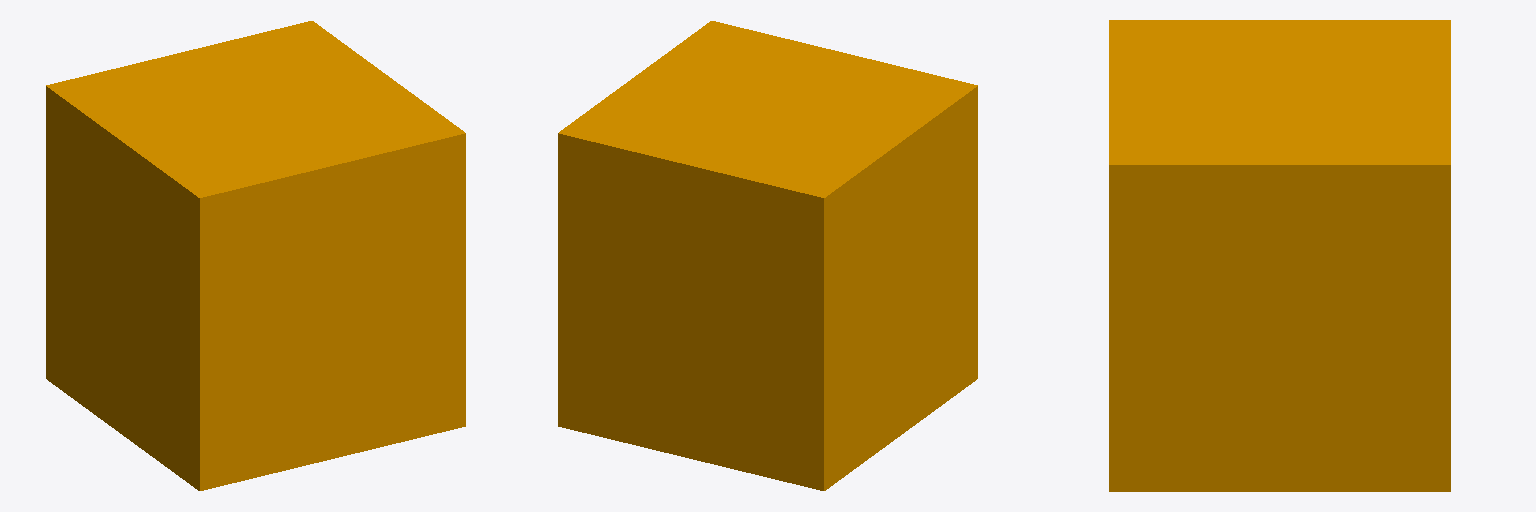
URDF robot description (test_bot):
<?xml version="1.0" ?>
<robot name="test_bot">
  <link name="table">
    <visual>
      <geometry>
        <box size="1.0 1.0 1.05"/>
      </geometry>
    </visual>
    <collision>
      <geometry>
        <box size="1.0 1.0 1.05"/>
      </geometry>
    </collision>
  </link>
</robot>

--- Render facts (derived) ---
3 views of the same robot in one strip: view 1: azimuth 30°, elevation 25°; view 2: azimuth 150°, elevation 25°; view 3: azimuth 270°, elevation 25° (orthographic).
Robot: test_bot — 1 links, 0 joints (none); root link table; default pose: all joints at 0.
Visible links, largest first — view 1: table; view 2: table; view 3: table.
Link boxes in pixels (<box>): table: <box>46,21,465,490</box>; table: <box>558,21,977,490</box>; table: <box>1109,20,1450,491</box>.
Size in the robot's own frame: 1 by 1 by 1.05 metres.
Geometry: primitives only (box / cylinder / sphere), no mesh files.